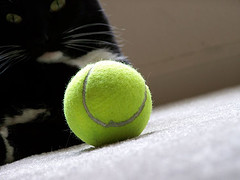tennis ball: (63, 58, 154, 149)
